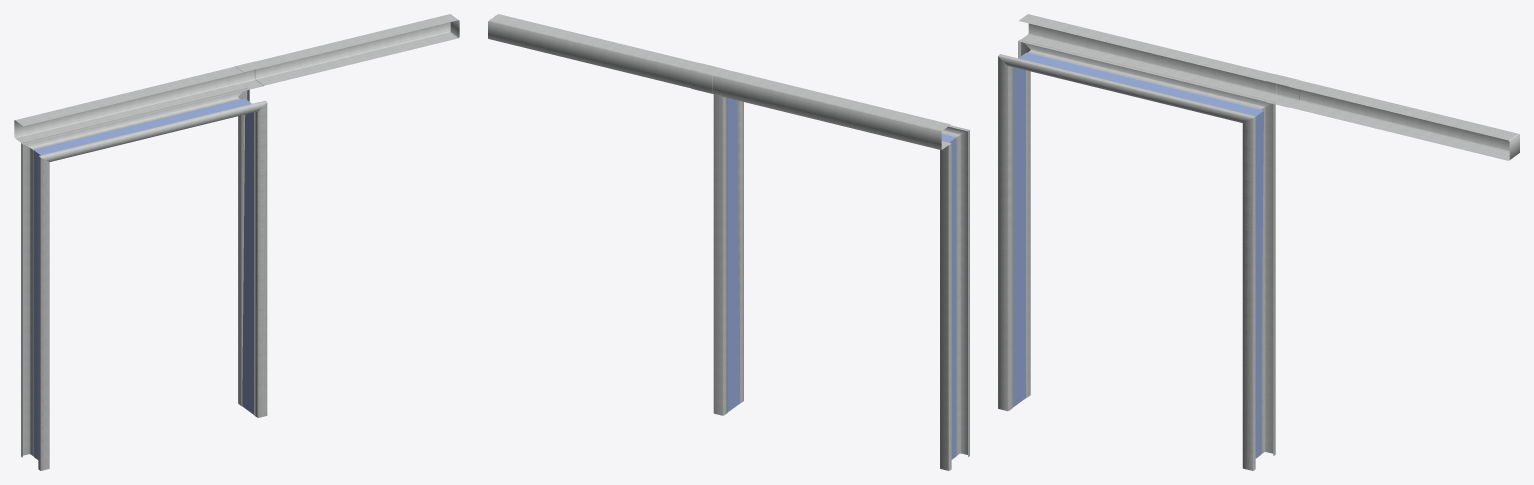
File: OR_DoorFrame_Main.fbx
3 views of the same model, side by side, from view 1: azimuth 30°, elevation 25°; view 2: azimuth 150°, elevation 25°; view 3: azimuth 330°, elevation 25° (orthographic). The views are drawn at different scales.
Parts seen in each view (by area): view 1: OR_DoorFrame_Main; view 2: OR_DoorFrame_Main; view 3: OR_DoorFrame_Main.
Part boxes in pixels (x1,y1,x2,y2): OR_DoorFrame_Main: (14, 14, 459, 470); OR_DoorFrame_Main: (488, 14, 969, 470); OR_DoorFrame_Main: (998, 14, 1519, 470).
Bounding box in the file's own units: 317 × 230 × 34.11.
